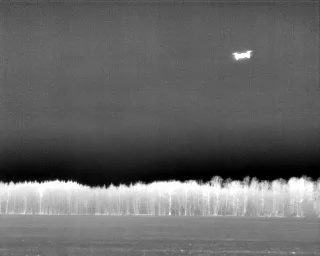DRONE: (228, 45, 256, 66)
